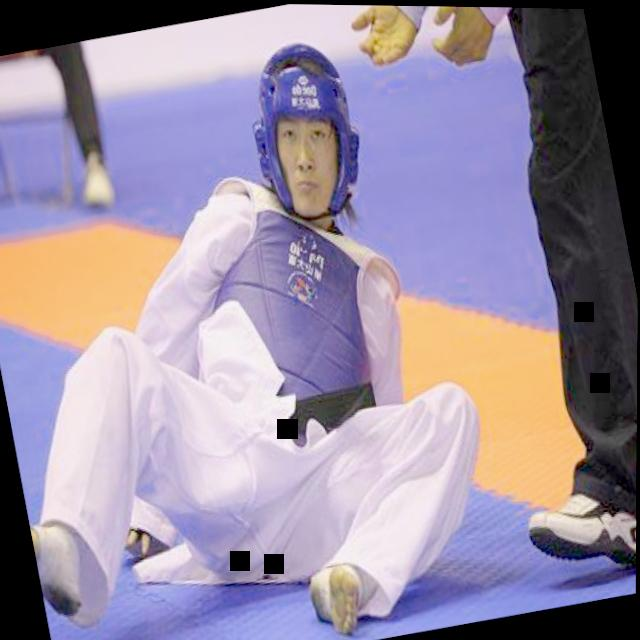Fall-Detected: (0, 21, 501, 640)
